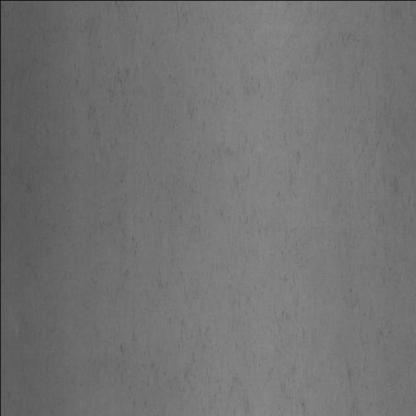silk_spot: (91, 177, 312, 398)
